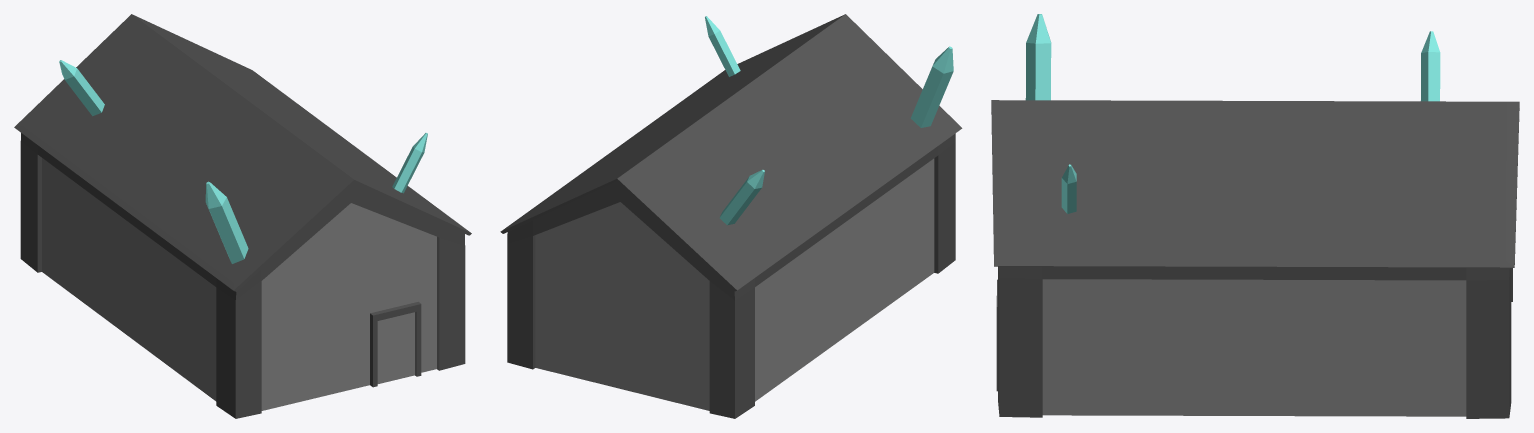
File: BigHouseCaveCrystal.fbx
3 renders of one model, left to right at view 1: azimuth 30°, elevation 25°; view 2: azimuth 150°, elevation 25°; view 3: azimuth 270°, elevation 25°, orthographic. The views are drawn at different scales.
Visible parts, largest first — view 1: BigHouseCrystal; view 2: BigHouseCrystal; view 3: BigHouseCrystal.
Boxes of the visible parts, x1,y1,x2,y2 form: BigHouseCrystal: (14,14,471,418); BigHouseCrystal: (500,14,962,418); BigHouseCrystal: (991,14,1519,418).
Size of the model in its own units: 10.05 by 15.78 by 8.78.
